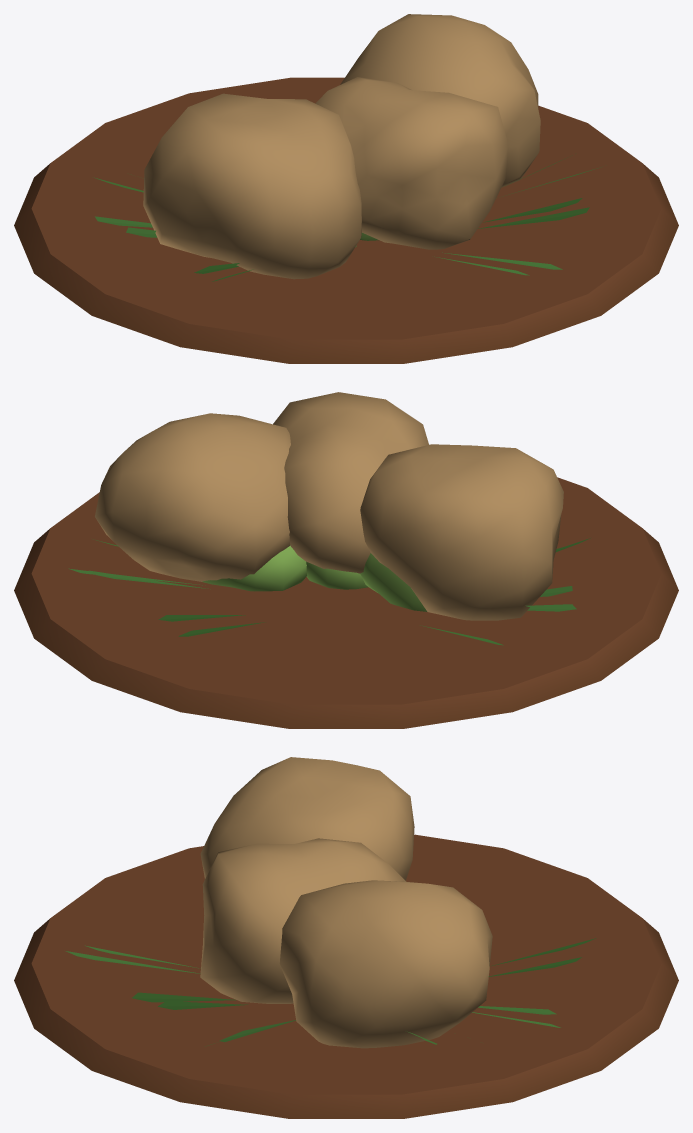
File: potato.glb
The picture shows the model from 3 angles, top to bottom: view 1: azimuth 30°, elevation 25°; view 2: azimuth 150°, elevation 25°; view 3: azimuth 270°, elevation 25°; orthographic projection.
Visible parts, largest first — view 1: crop-potato-giant, crop-potato-giant-2; view 2: crop-potato-giant, crop-potato-giant-2; view 3: crop-potato-giant-2, crop-potato-giant.
Boxes of the visible parts, box(x1,y1,x2,y2) form: crop-potato-giant: box(14, 14, 678, 363); crop-potato-giant-2: box(22, 77, 670, 352); crop-potato-giant: box(14, 392, 678, 728); crop-potato-giant-2: box(22, 477, 670, 717); crop-potato-giant-2: box(22, 834, 670, 1107); crop-potato-giant: box(14, 757, 678, 1118).
Bounding box in the file's own units: 5.61 × 1.53 × 5.7.
